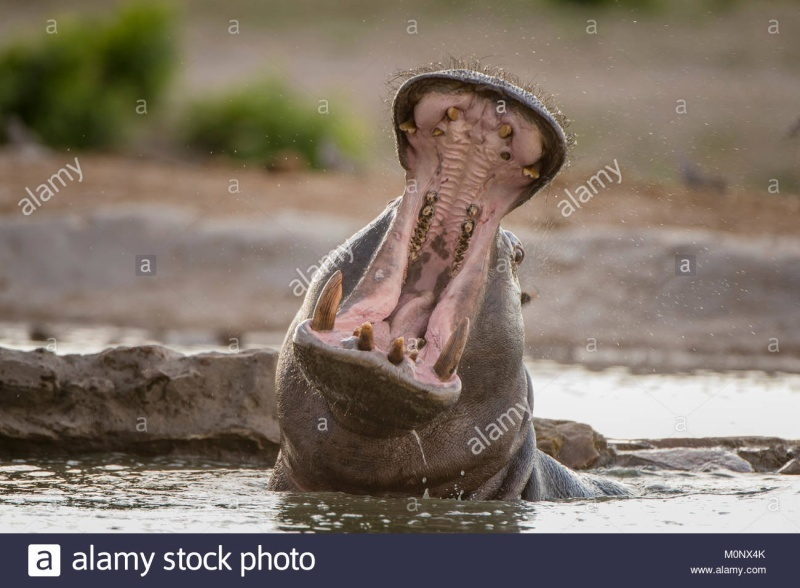hipopotamo: (255, 51, 640, 513)
